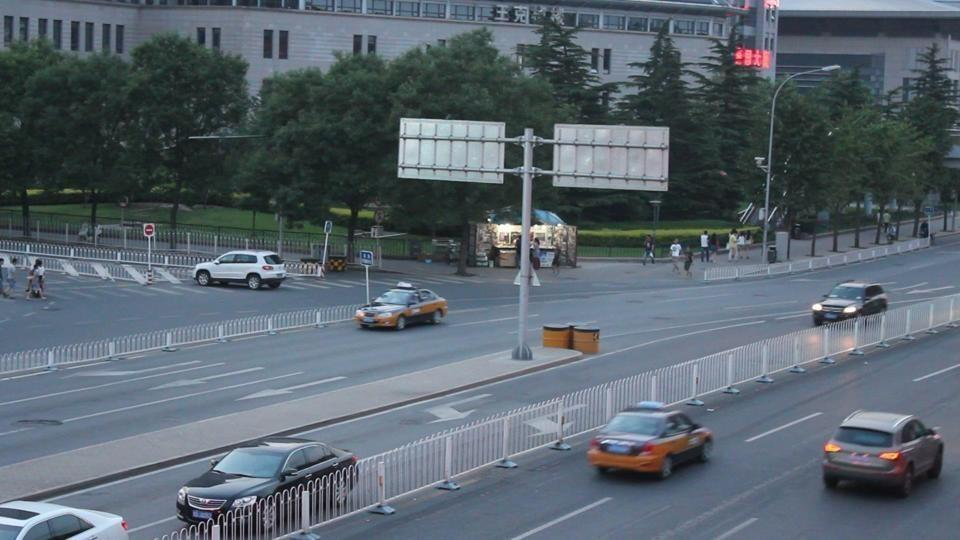car: (175, 438, 359, 525), (820, 408, 945, 497), (588, 406, 713, 482), (0, 496, 131, 539), (354, 286, 449, 331), (191, 250, 287, 290), (811, 281, 889, 326)
